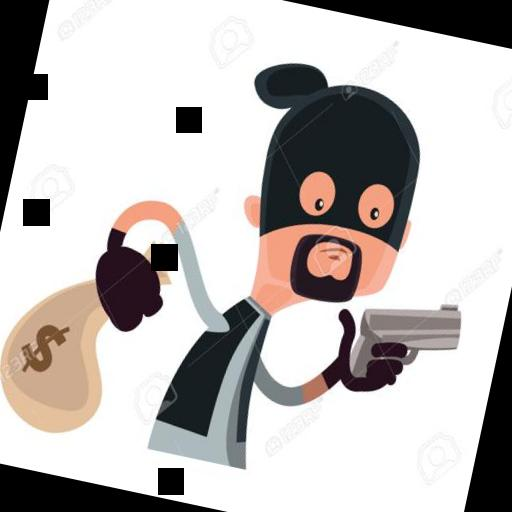Handgun: (338, 281, 468, 407)
